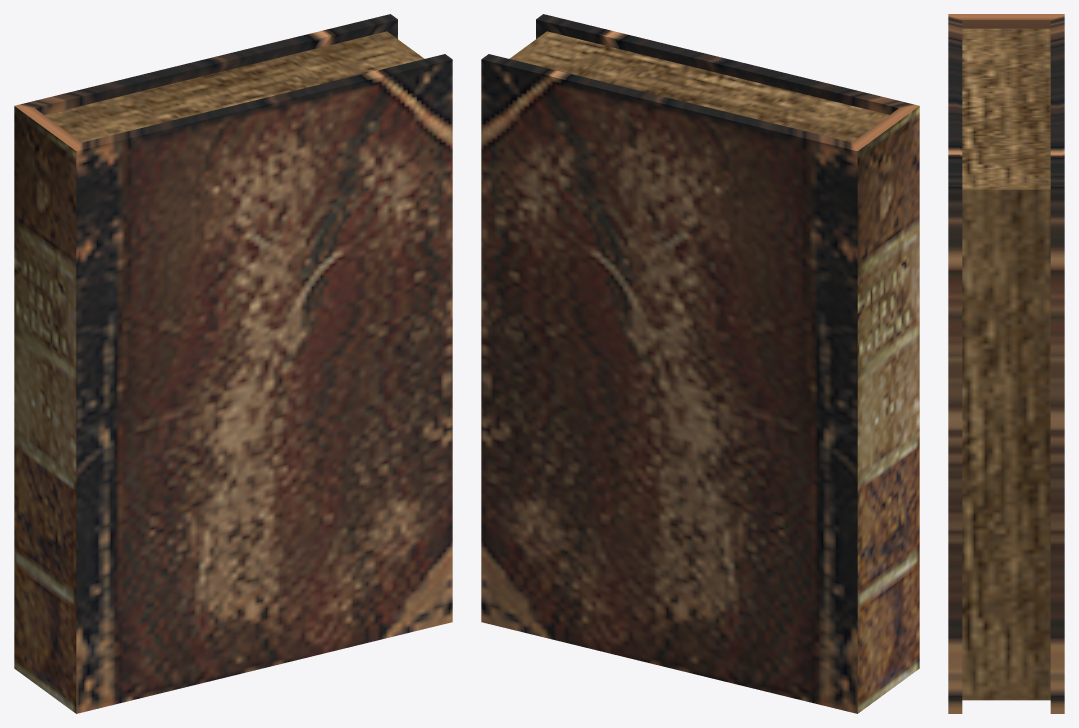
Rendered from book.fbx.
3 renders of one model, left to right at view 1: azimuth 30°, elevation 25°; view 2: azimuth 150°, elevation 25°; view 3: azimuth 270°, elevation 25°, orthographic. The views are drawn at different scales.
Visible parts, largest first — view 1: Book; view 2: Book; view 3: Book.
Part boxes in pixels (x1,y1,x2,y2): Book: [14, 14, 452, 713]; Book: [481, 14, 919, 713]; Book: [948, 14, 1064, 713].
Bounding box in the file's own units: 0.3898 × 0.5569 × 0.1114.
